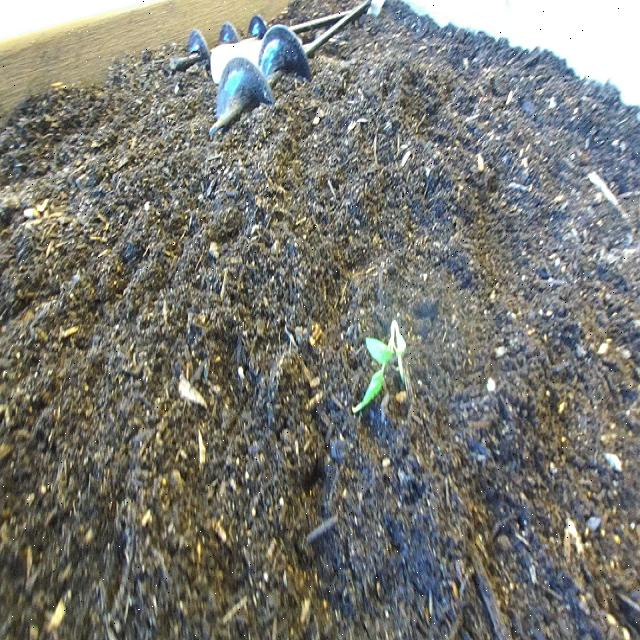Healthy: (347, 304, 415, 428)
